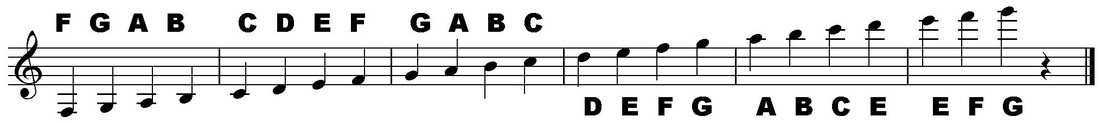Quarter Note A3: (132, 38, 162, 123)
Quarter Note A4: (438, 32, 470, 123)
Quarter Note A5: (739, 5, 770, 93)
Quarter Note B3: (169, 38, 203, 123)
Quarter Note B4: (479, 33, 504, 123)
Quarter Note B5: (778, 3, 809, 91)
Quarter Note C4: (226, 36, 256, 123)
Quarter Note C5: (514, 35, 545, 123)
Quarter Note C6: (819, 6, 850, 94)
Quarter Note D4: (265, 35, 299, 123)
Quarter Note D5: (567, 8, 598, 96)
Quarter Note D6: (858, 4, 889, 92)
Quarter Note E4: (306, 35, 336, 123)
Quarter Note E5: (607, 7, 638, 95)
Quarter Note E6: (913, 1, 944, 89)
Quarter Note F3: (51, 39, 84, 123)
Quarter Note F4: (345, 33, 374, 123)
Quarter Note F5: (646, 7, 677, 95)
Quarter Note F6: (954, 1, 985, 87)
Quarter Note G3: (93, 39, 126, 123)
Quarter Note G4: (399, 33, 429, 123)
Quarter Note G5: (684, 8, 715, 96)
Quarter Note G6: (995, 1, 1026, 87)
